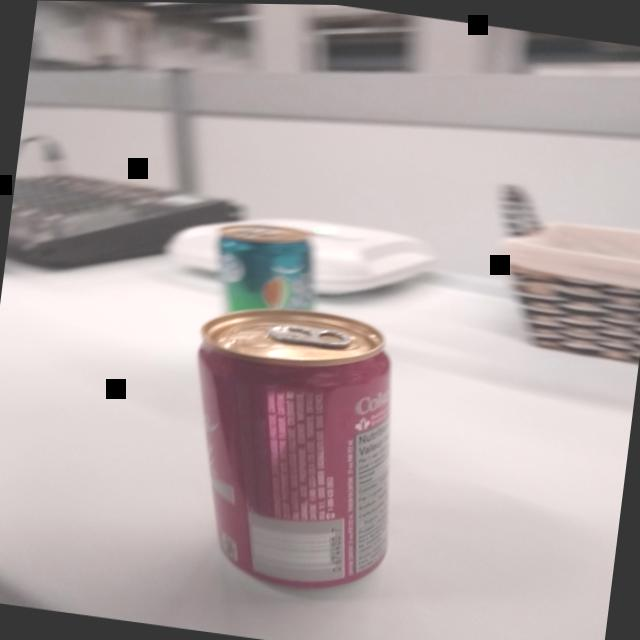coke: (164, 287, 430, 614)
